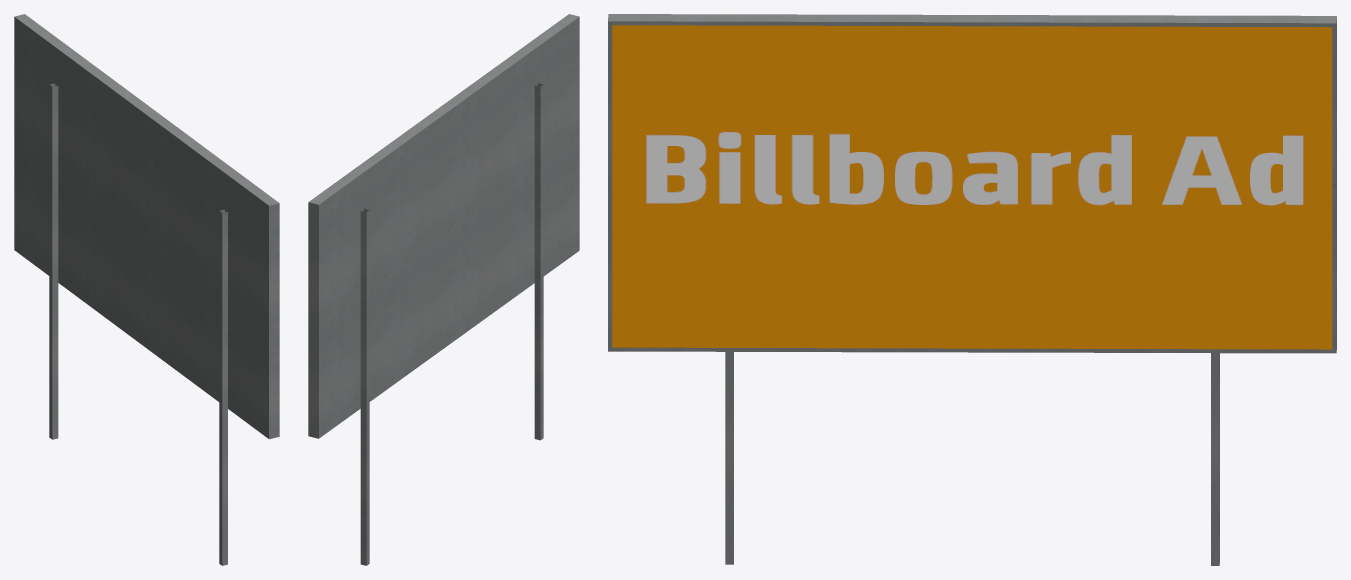
Rendered from Billboard.FBX.
3 renders of one model, left to right at view 1: azimuth 30°, elevation 25°; view 2: azimuth 150°, elevation 25°; view 3: azimuth 270°, elevation 25°, orthographic. The views are drawn at different scales.
Parts seen in each view (by area): view 1: Billboard; view 2: Billboard; view 3: Billboard.
Boxes of the visible parts, box(x1,y1,x2,y2) form: Billboard: box(14, 14, 279, 565); Billboard: box(308, 14, 579, 565); Billboard: box(608, 14, 1336, 565).
Bounding box in the file's own units: 0.3535 × 7 × 8.4.
2 materials, 2 textured.
